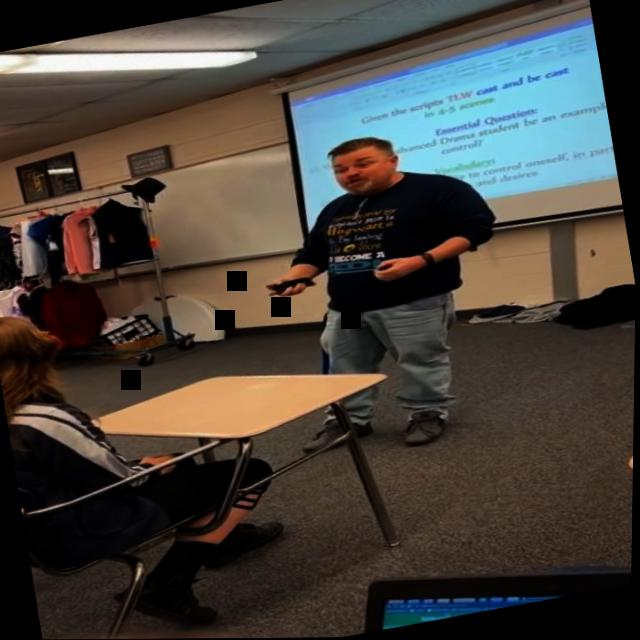NO-Mask: (327, 135, 402, 198)
